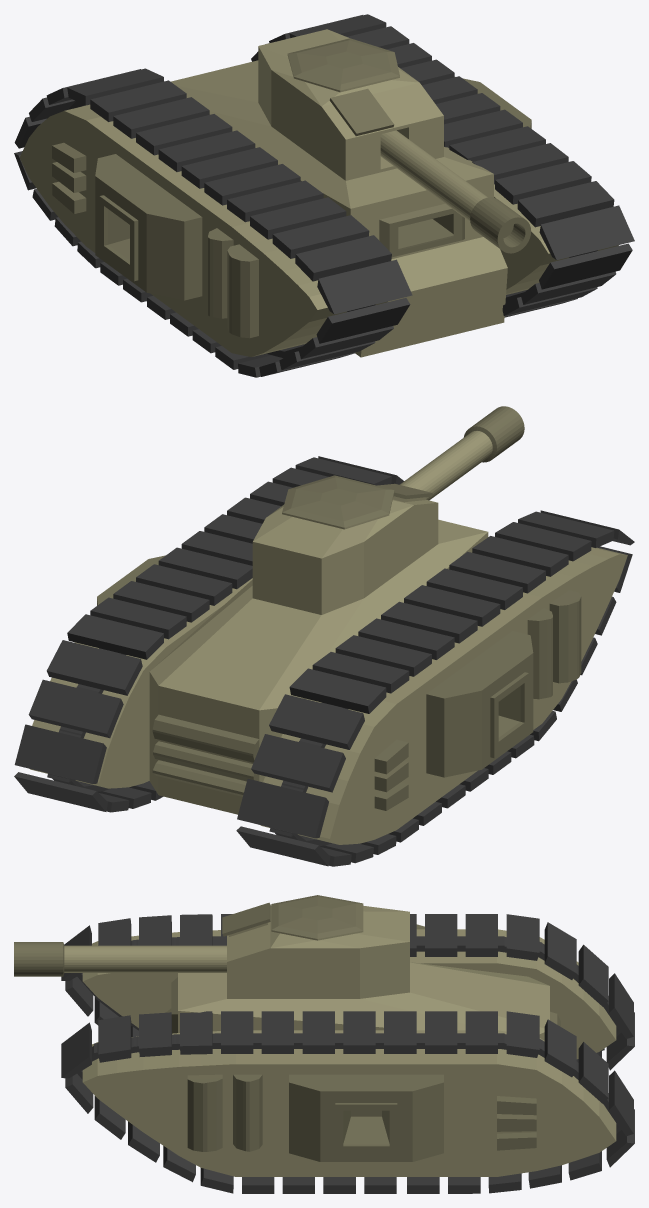
File: Tank.fbx
The picture shows the model from 3 angles, top to bottom: view 1: azimuth 30°, elevation 25°; view 2: azimuth 150°, elevation 25°; view 3: azimuth 270°, elevation 25°; orthographic projection. The views are drawn at different scales.
Parts seen in each view (by area): view 1: Cube; view 2: Cube; view 3: Cube.
Part boxes in pixels (bbox=[...]): Cube: bbox=[14, 14, 634, 377]; Cube: bbox=[14, 406, 634, 866]; Cube: bbox=[14, 895, 634, 1193].
Size of the model in its own units: 1004 by 590 by 1534.
